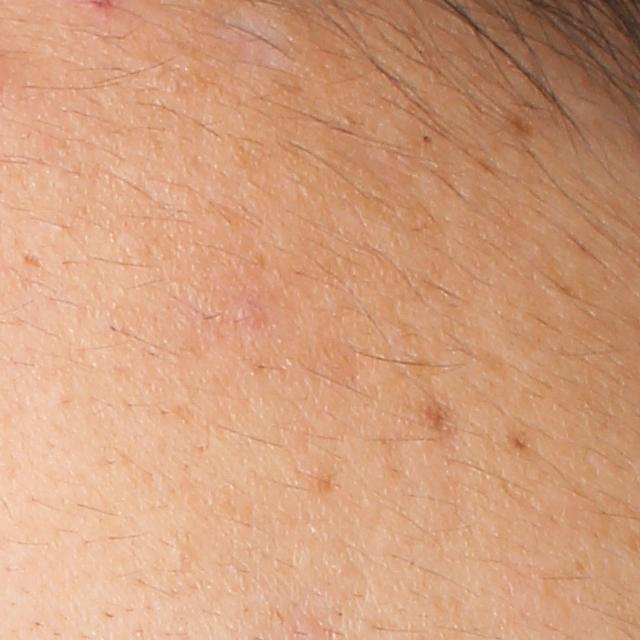comedo: (165, 541, 191, 575)
